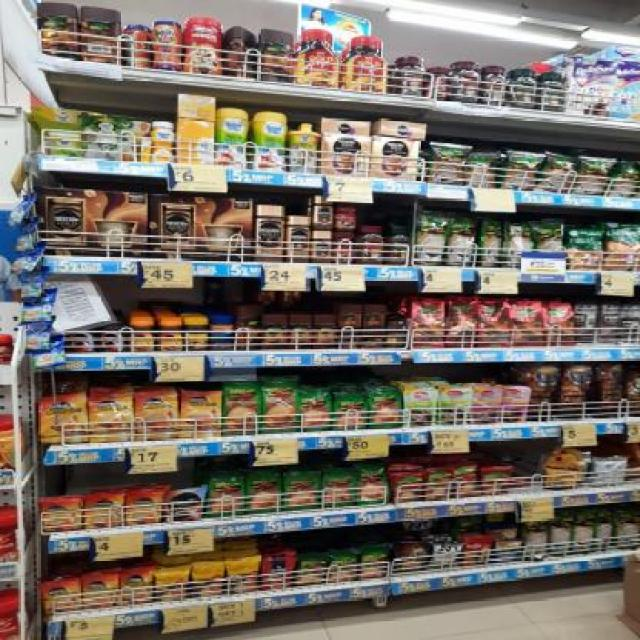Coffee: (40, 397, 88, 443), (134, 392, 180, 438), (88, 398, 132, 442), (180, 392, 222, 437), (255, 204, 285, 262), (38, 499, 80, 530), (41, 582, 80, 615), (85, 496, 123, 529), (164, 492, 207, 520), (82, 576, 118, 609), (126, 493, 162, 525), (120, 574, 152, 606), (288, 216, 309, 262), (67, 319, 95, 352), (157, 319, 183, 352), (99, 319, 123, 353), (130, 320, 155, 351), (314, 197, 332, 228), (313, 231, 330, 263)
